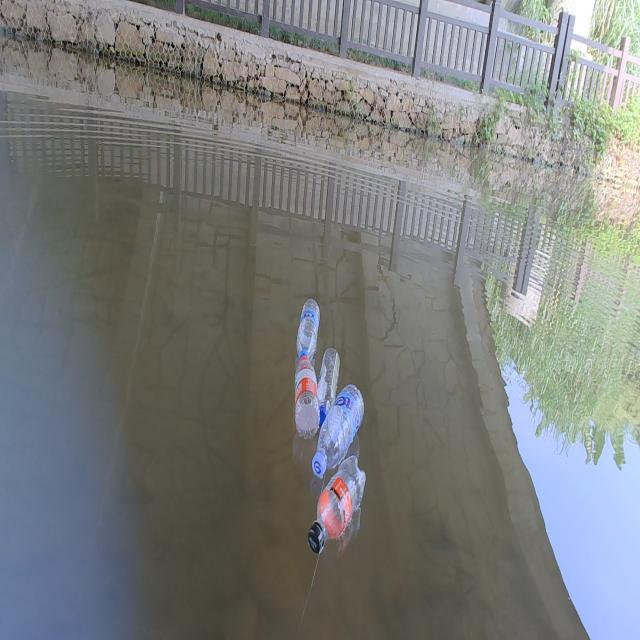Bottle: (301, 456, 370, 551), (314, 383, 366, 473), (294, 352, 320, 442), (294, 292, 321, 356), (318, 345, 339, 421)
